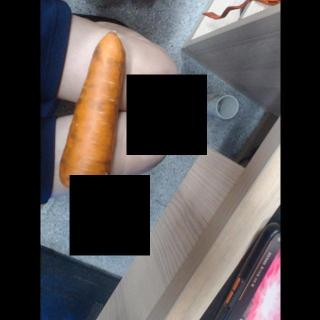carrot: (57, 29, 126, 194)
